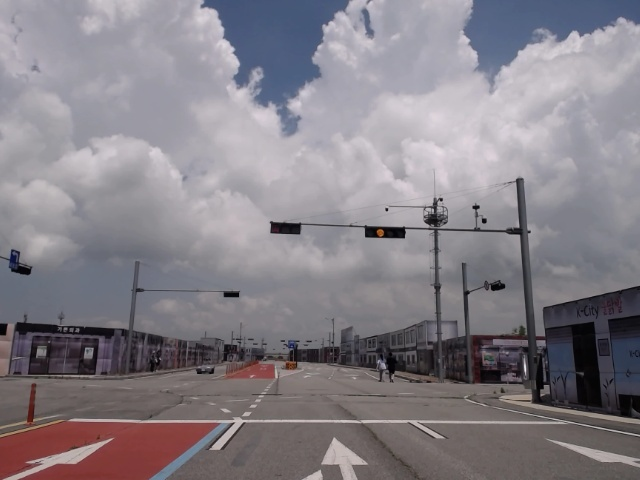orange_4: (364, 224, 405, 237)
